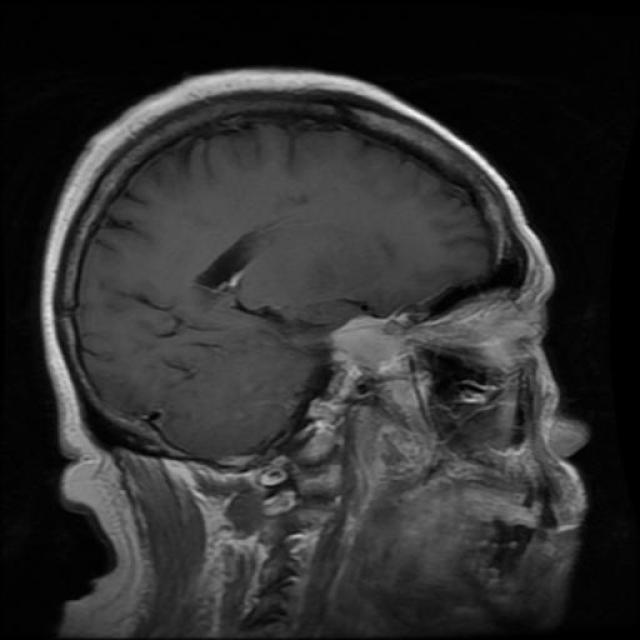meningioma: (326, 320, 404, 369)
